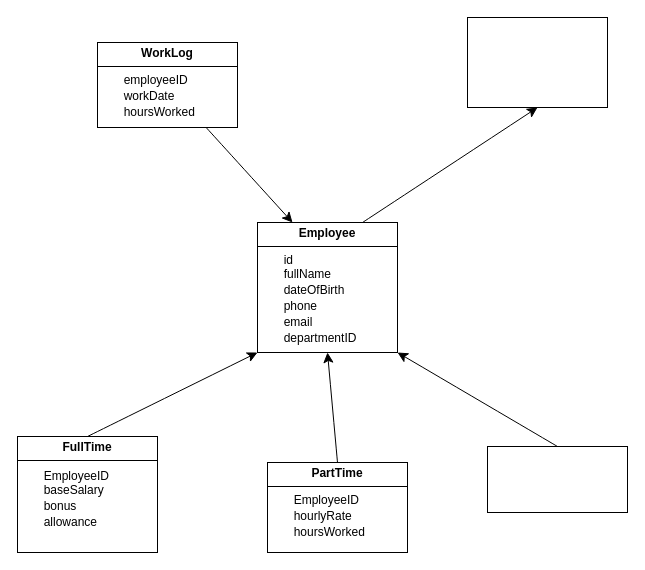
This 645x570 diagram has some shape labels left out. Each missing label, with the centre of its shape:
Department id name available: pixel 537 62
Intern EmployeeID allowance: pixel 557 479
